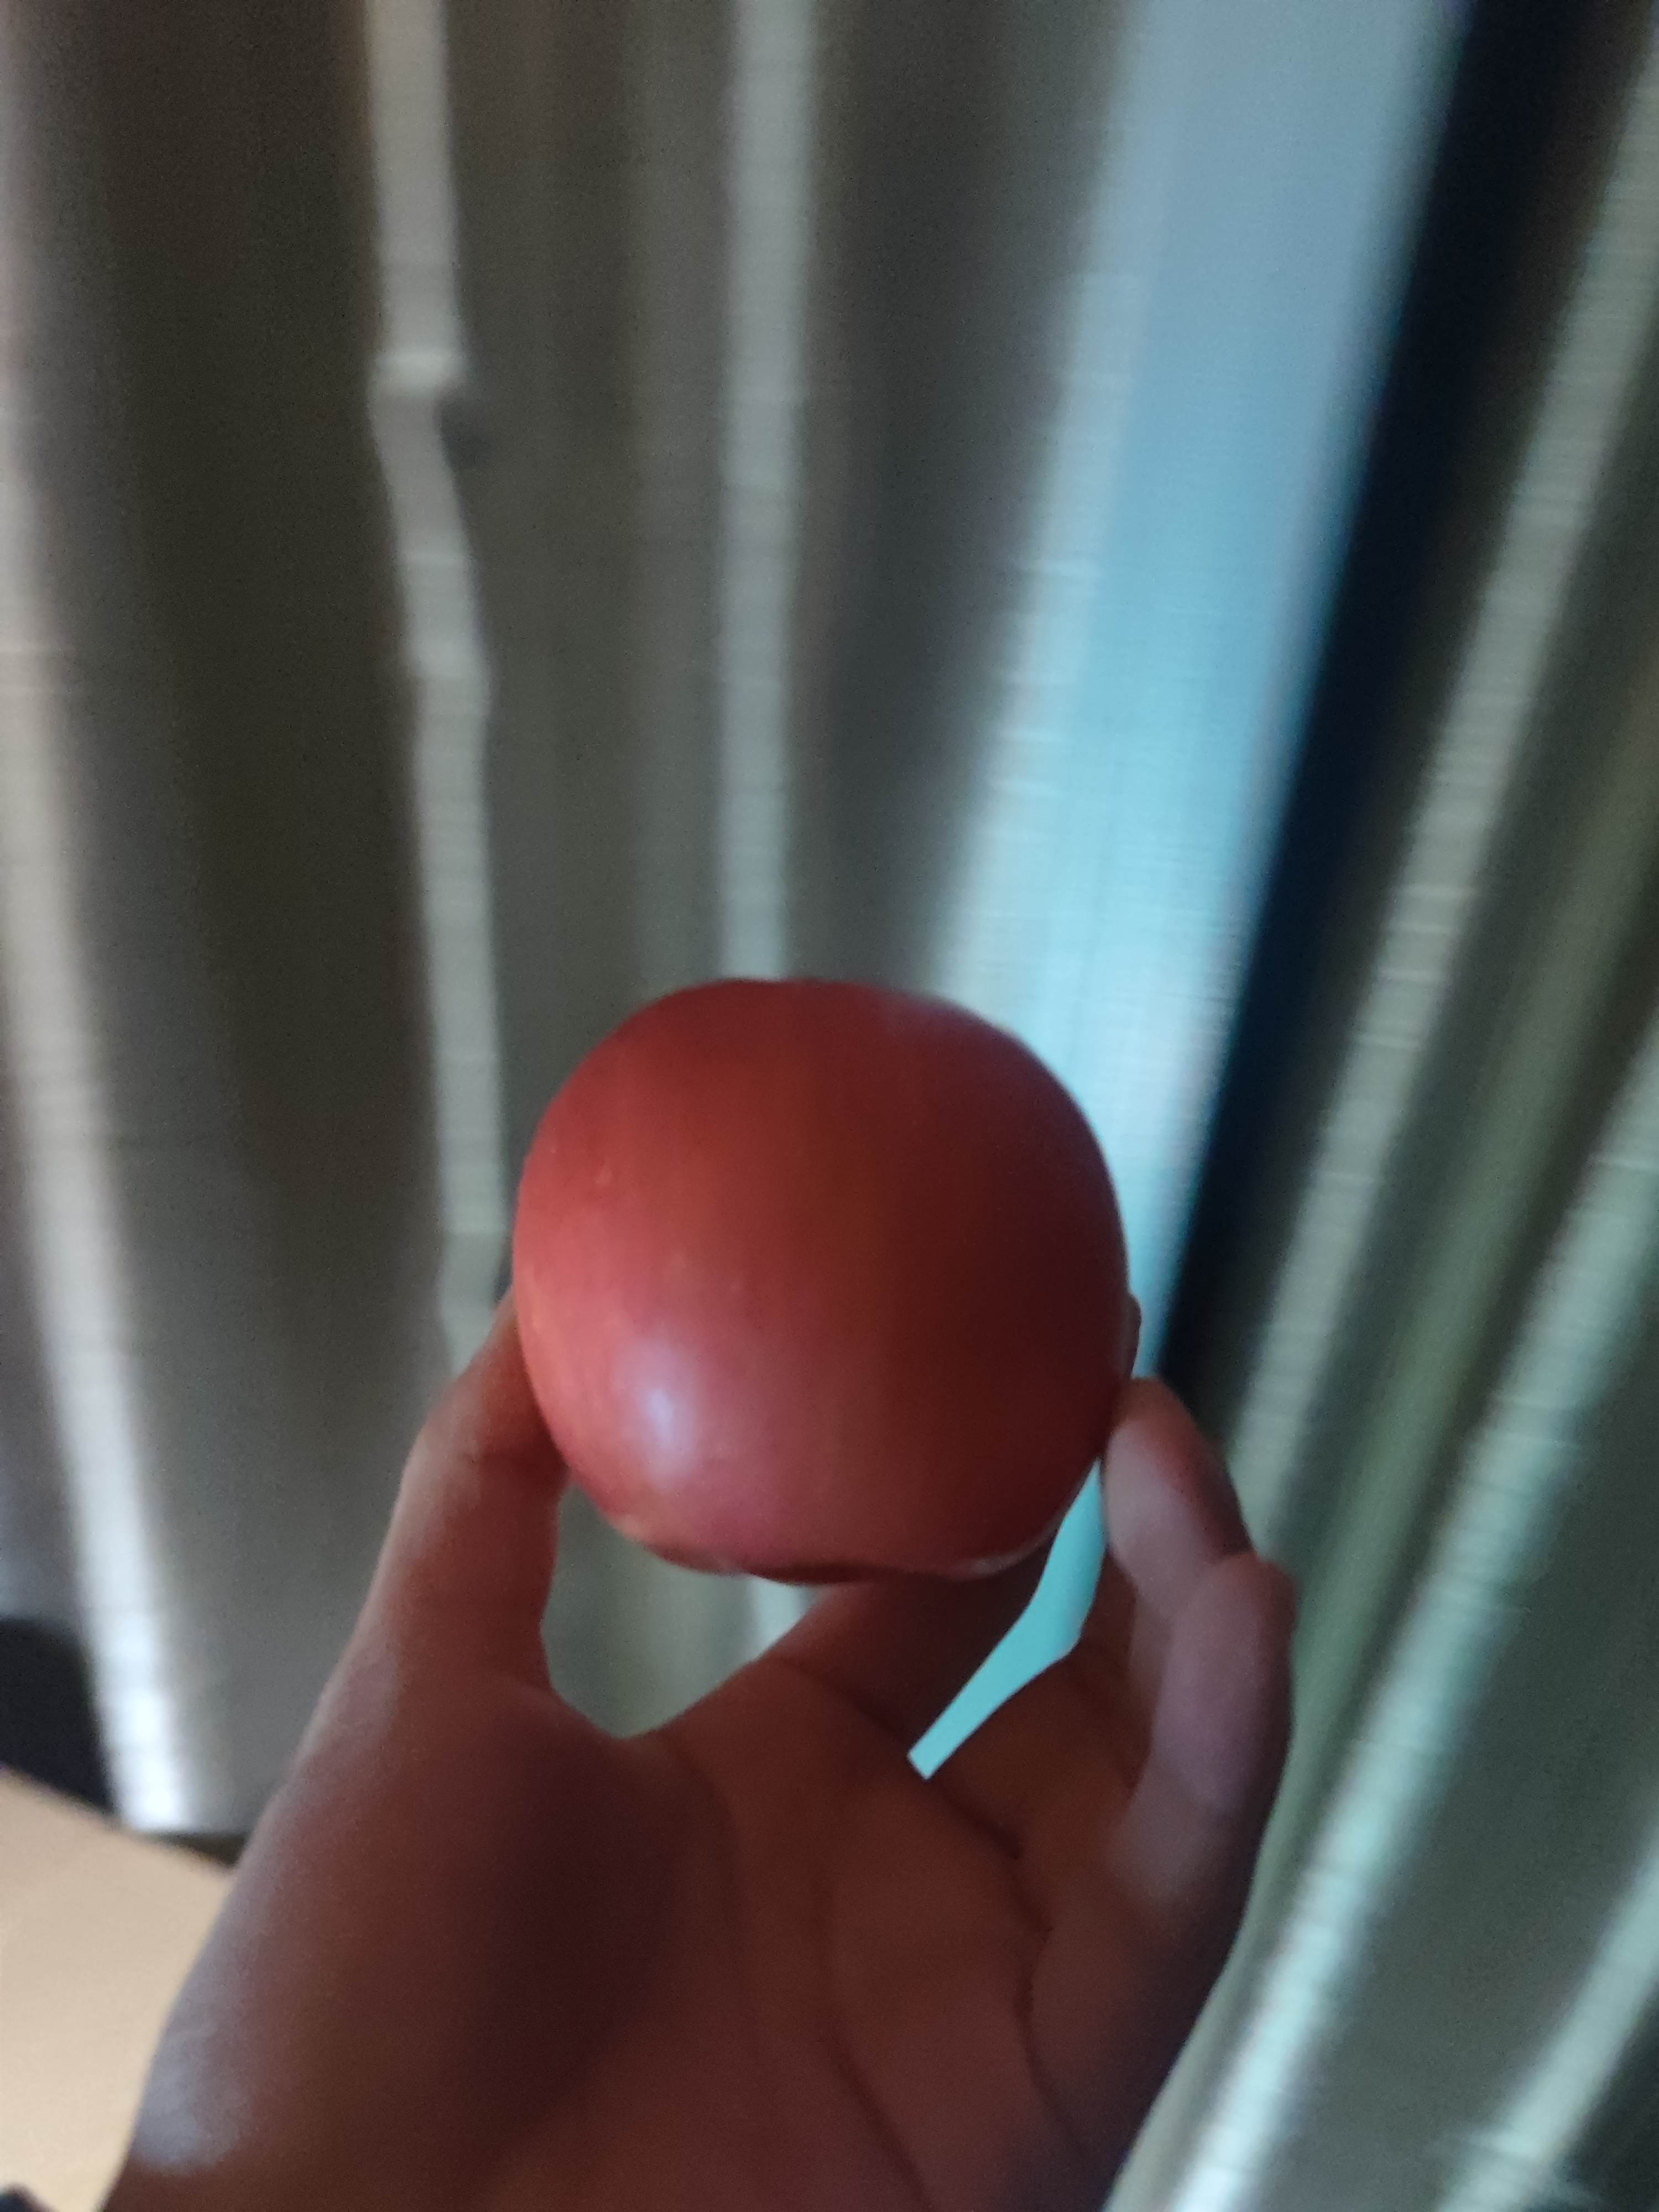apple: (512, 968, 1110, 1580)
